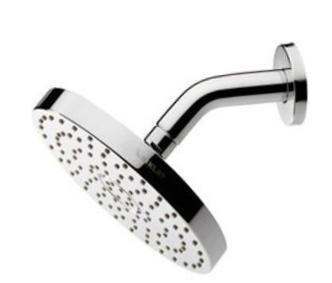Ducha: (30, 33, 308, 277)
